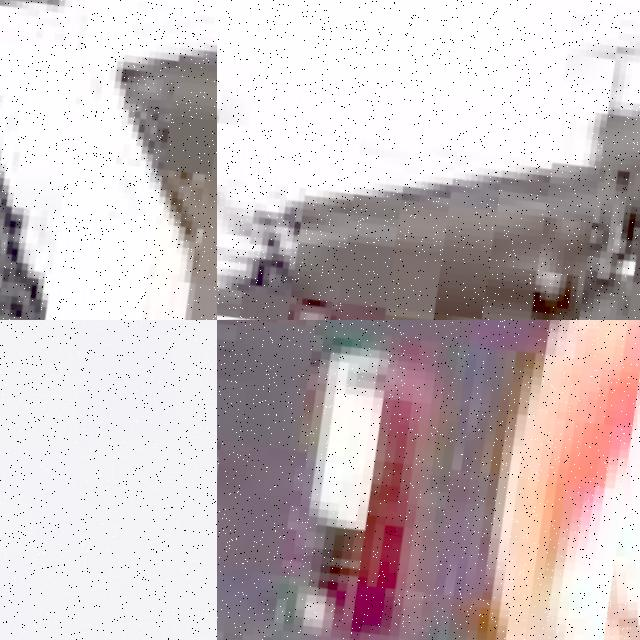0: (217, 0, 640, 320), (0, 0, 217, 320)
drone: (217, 320, 640, 640)
